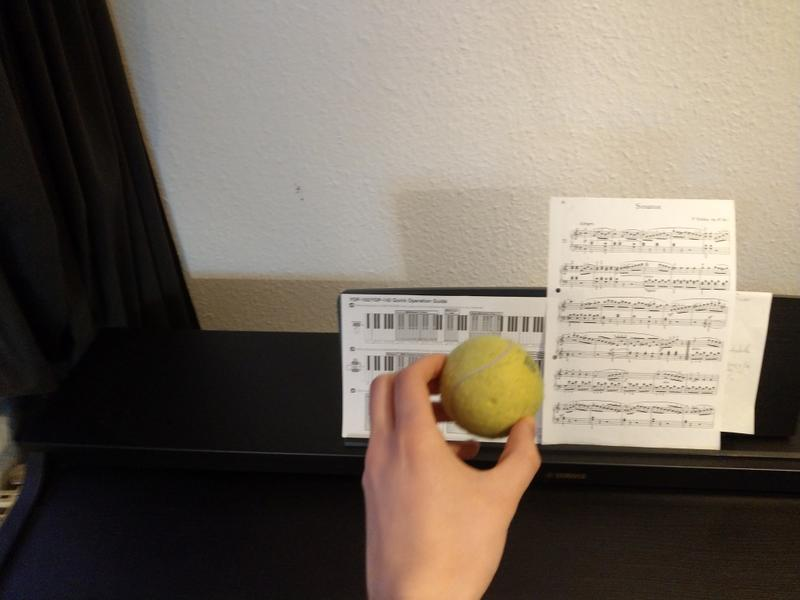Tennisball: (436, 333, 545, 440)
